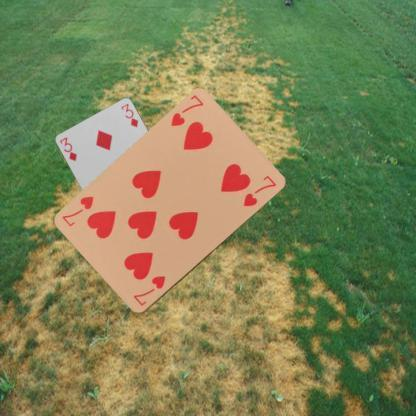3d: (57, 134, 78, 162)
7h: (168, 92, 205, 128), (130, 273, 166, 308)
